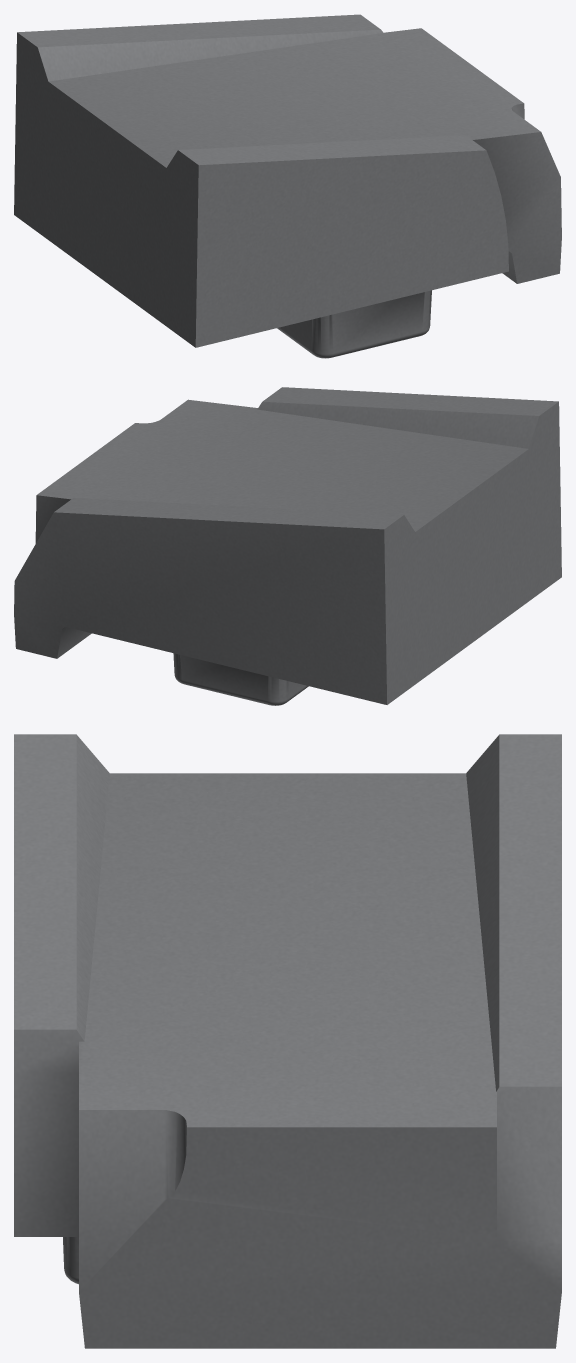
Rendered from quarry-impeller.glb.
3 renders of one model, top to bottom at view 1: azimuth 30°, elevation 25°; view 2: azimuth 150°, elevation 25°; view 3: azimuth 270°, elevation 25°, orthographic. The views are drawn at different scales.
Parts seen in each view (by area): view 1: metal; view 2: metal; view 3: metal.
Part boxes in pixels (bbox=[...]): metal: bbox=[14, 14, 561, 358]; metal: bbox=[14, 387, 561, 705]; metal: bbox=[14, 734, 561, 1348].
Size of the model in its own units: 0.281 by 0.169 by 0.228.
Materials: 1 (1 with a texture image).
